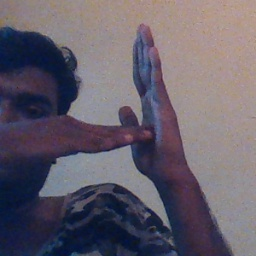Z: (71, 20, 188, 180)
